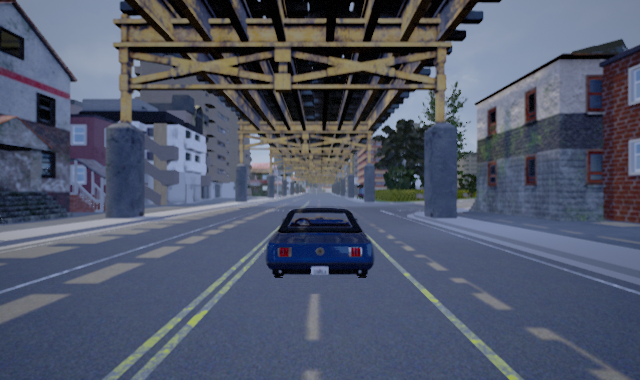vehicle: (265, 207, 372, 278)
